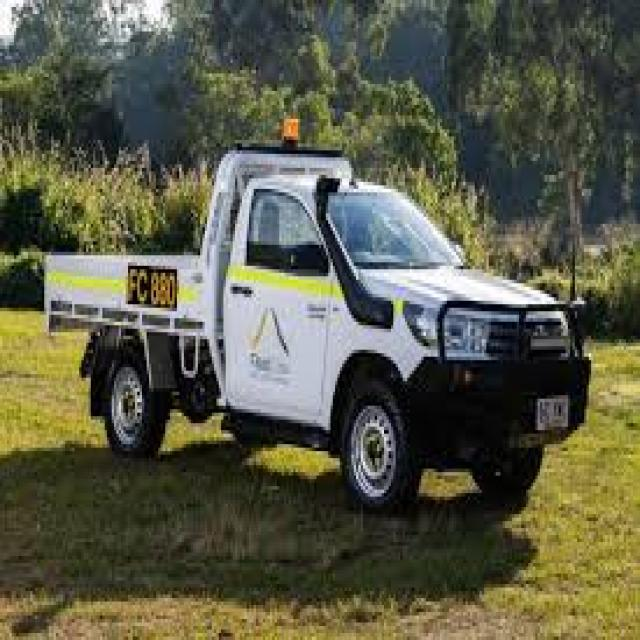LV: (30, 124, 595, 520)
